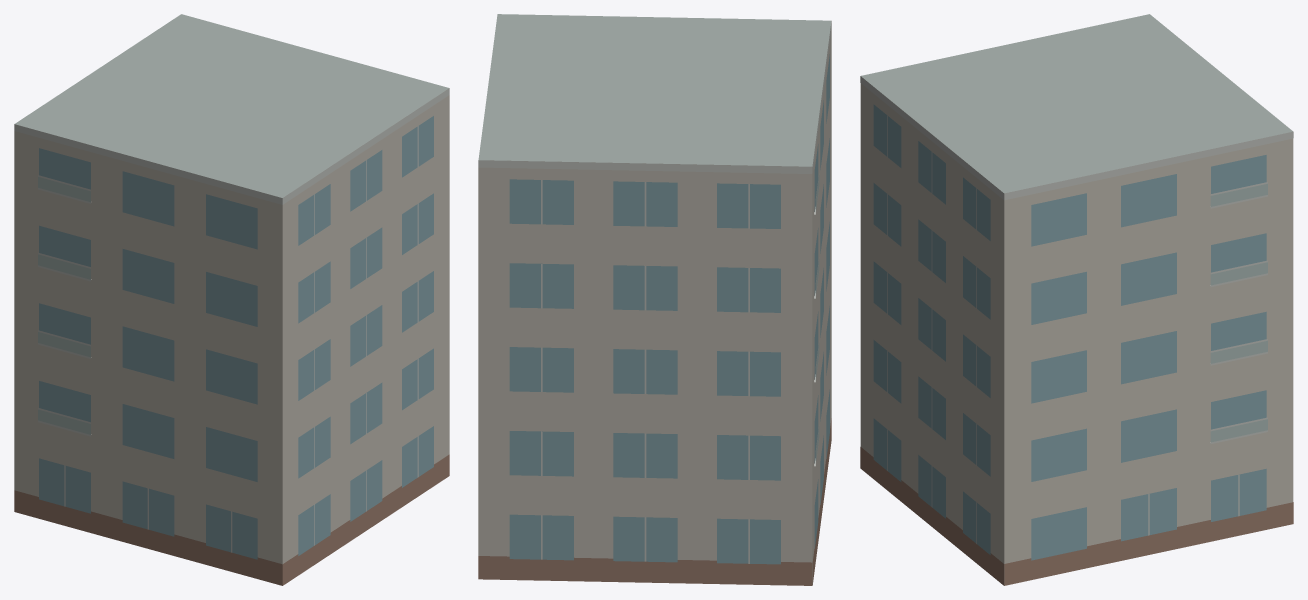
Rendered from survey-upis-32841643.glb.
3 renders of one model, left to right at view 1: azimuth 30°, elevation 25°; view 2: azimuth 150°, elevation 25°; view 3: azimuth 270°, elevation 25°, orthographic. The views are drawn at different scales.
Parts seen in each view (by area): view 1: survey-upis-32841643.tmp; view 2: survey-upis-32841643.tmp; view 3: survey-upis-32841643.tmp.
Part boxes in pixels (x1=…): survey-upis-32841643.tmp: x1=14, y1=14, x2=449, y2=585; survey-upis-32841643.tmp: x1=478, y1=14, x2=831, y2=585; survey-upis-32841643.tmp: x1=860, y1=14, x2=1293, y2=585.
Bounding box in the file's own units: 13.59 × 13.85 × 13.86.
